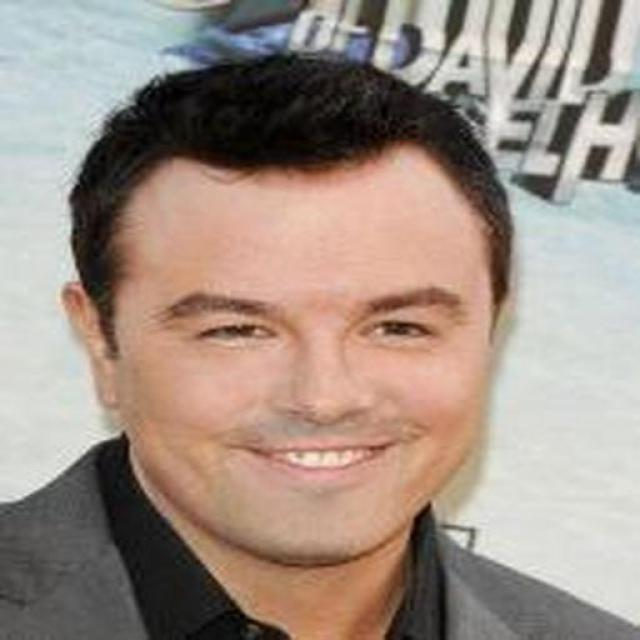bareface: (140, 174, 473, 530)
